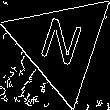N_S: (35, 14, 87, 74)
